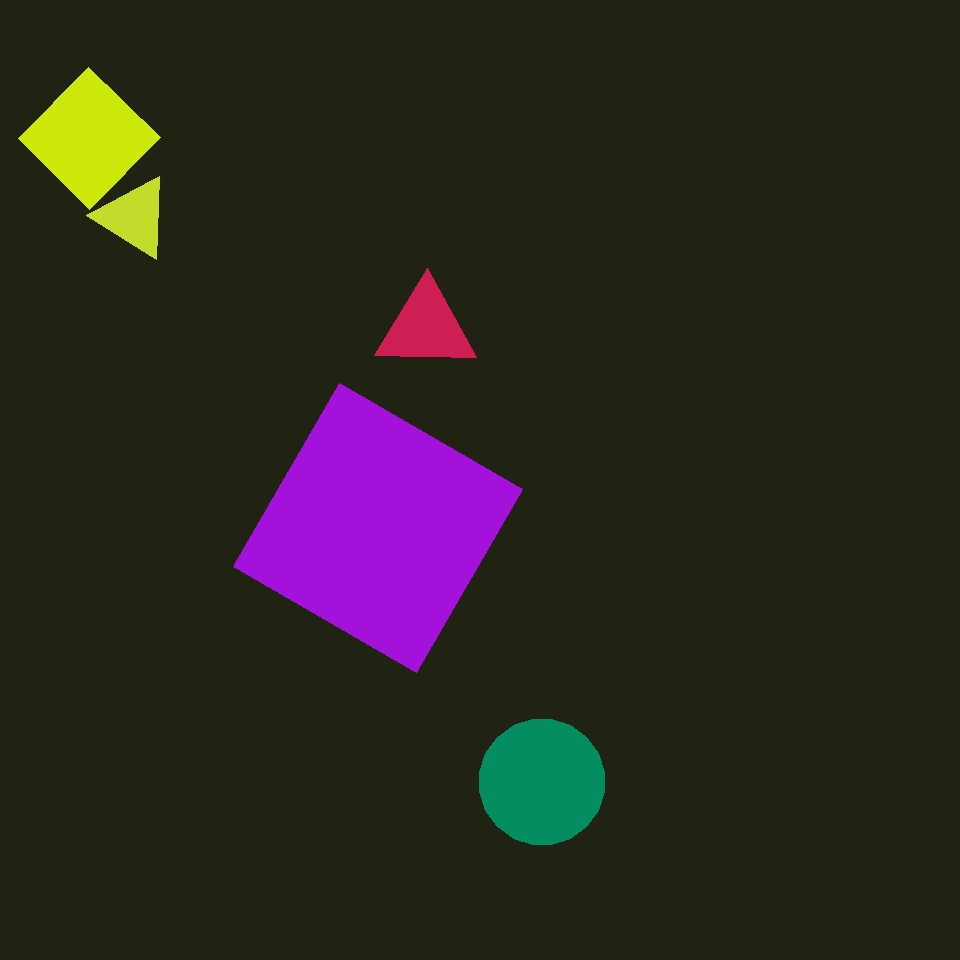circle: (158, 336, 444, 651), (375, 283, 477, 372), (98, 176, 170, 258)
square: (468, 216, 784, 533), (234, 384, 522, 672), (690, 529, 857, 696), (18, 67, 160, 209)
triangle: (182, 40, 528, 386), (70, 345, 402, 677), (544, 343, 865, 663), (291, 425, 588, 723), (133, 176, 427, 469), (483, 306, 742, 565), (480, 720, 604, 844)
